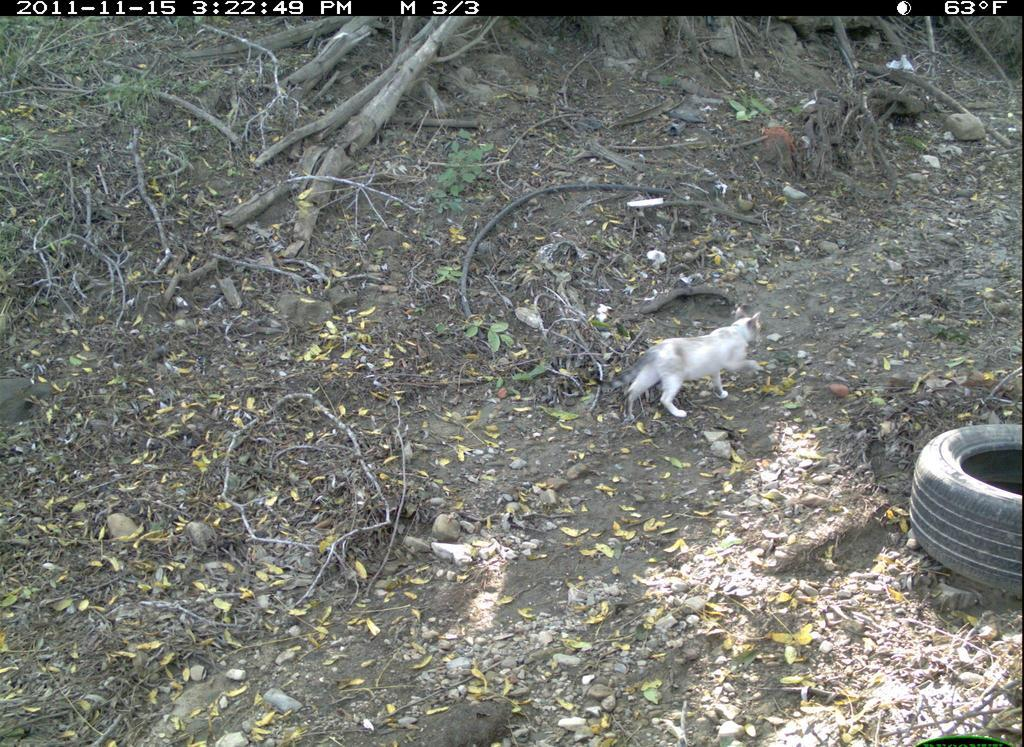cat: (605, 314, 772, 415)
